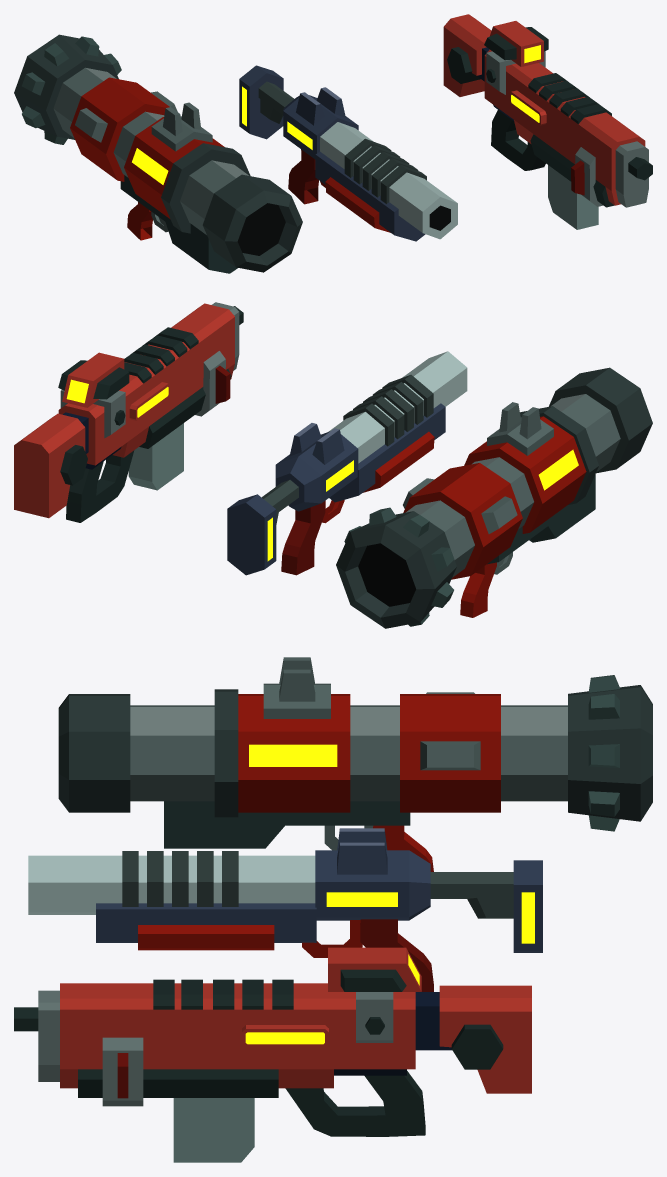
Rendered from weapons-1.fbx.
3 renders of one model, top to bottom at view 1: azimuth 30°, elevation 25°; view 2: azimuth 150°, elevation 25°; view 3: azimuth 270°, elevation 25°, orthographic. The views are drawn at different scales.
Visible parts, largest first — view 1: gun-1.002, gun-1, gun-1.001; view 2: gun-1.002, gun-1, gun-1.001; view 3: gun-1.002, gun-1, gun-1.001.
Part boxes in pixels (left/top/right/bottom): gun-1.002: left=14, top=34, right=302, bottom=273; gun-1: left=443, top=14, right=652, bottom=229; gun-1.001: left=239, top=65, right=457, bottom=241; gun-1.002: left=336, top=367, right=652, bottom=628; gun-1: left=14, top=302, right=243, bottom=522; gun-1.001: left=227, top=351, right=467, bottom=575; gun-1.002: left=58, top=657, right=652, bottom=871; gun-1: left=14, top=947, right=531, bottom=1162; gun-1.001: left=28, top=828, right=542, bottom=991.
Size of the model in its own units: 345 by 130 by 310.
